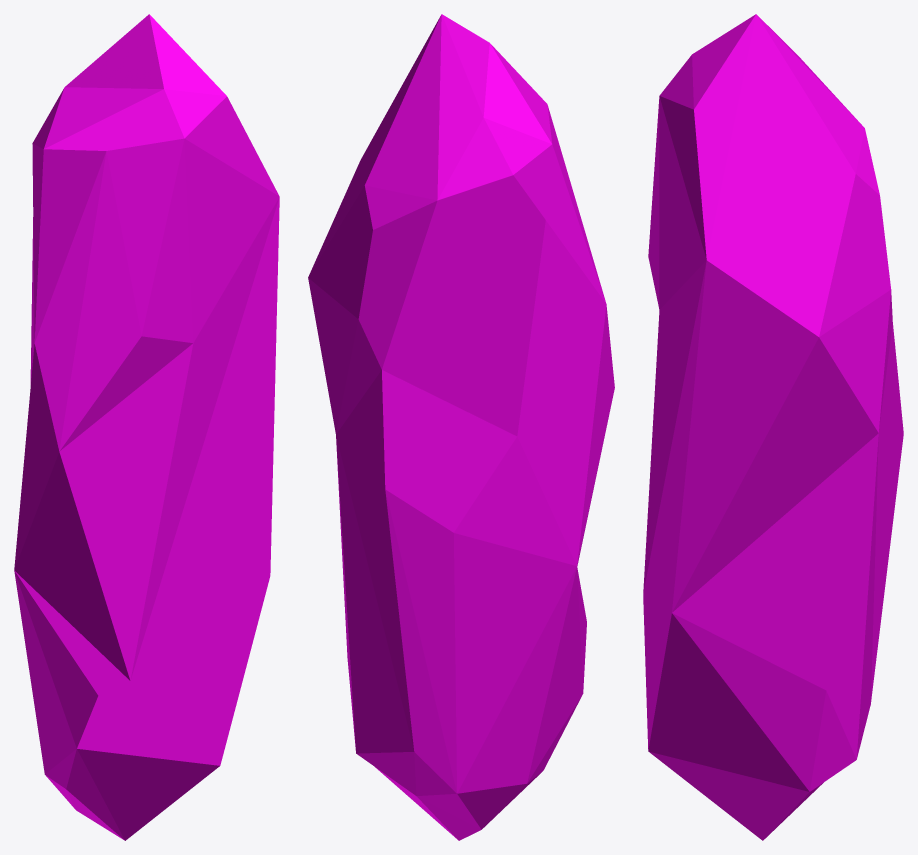
File: Crystal_3.fbx
3 renders of one model, left to right at view 1: azimuth 30°, elevation 25°; view 2: azimuth 150°, elevation 25°; view 3: azimuth 270°, elevation 25°, orthographic. The views are drawn at different scales.
Visible parts, largest first — view 1: Crystal_3; view 2: Crystal_3; view 3: Crystal_3.
Part boxes in pixels (x1=…): Crystal_3: x1=14, y1=14, x2=279, y2=840; Crystal_3: x1=308, y1=14, x2=614, y2=840; Crystal_3: x1=643, y1=14, x2=903, y2=840.
Size of the model in its own units: 35.85 by 115 by 32.35.
